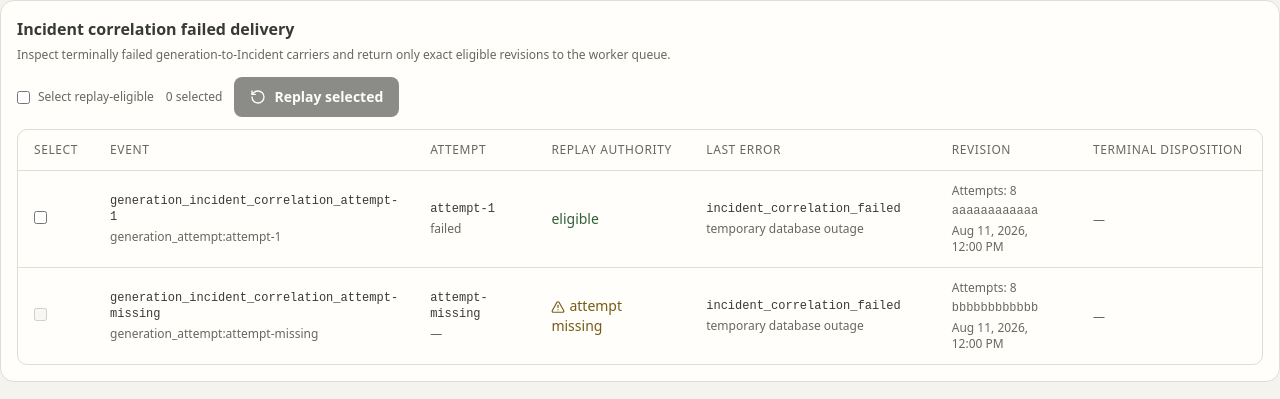
IncidentCorrelationOutbox mounted operator flow › keeps select-all scoped to the replay-eligible rows
Click the checkbox named "Select all replay-eligible incident correlation events".
click(24, 97)  # box x1=17 y1=90 x2=30 y2=104
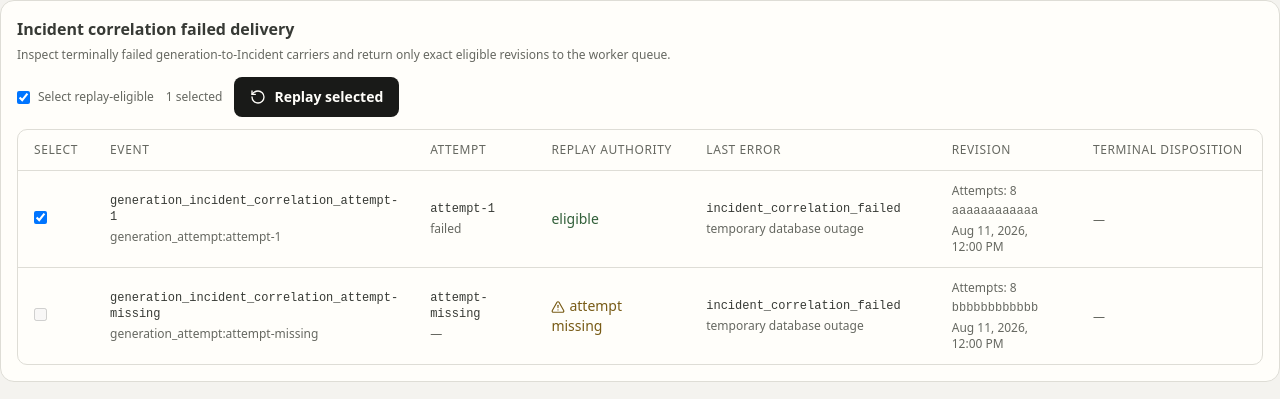
expect the text "1 selected" is shown: met, box x1=166 y1=89 x2=222 y2=105
expect the button "Replay selected" is enabled: met, box x1=234 y1=77 x2=399 y2=117
